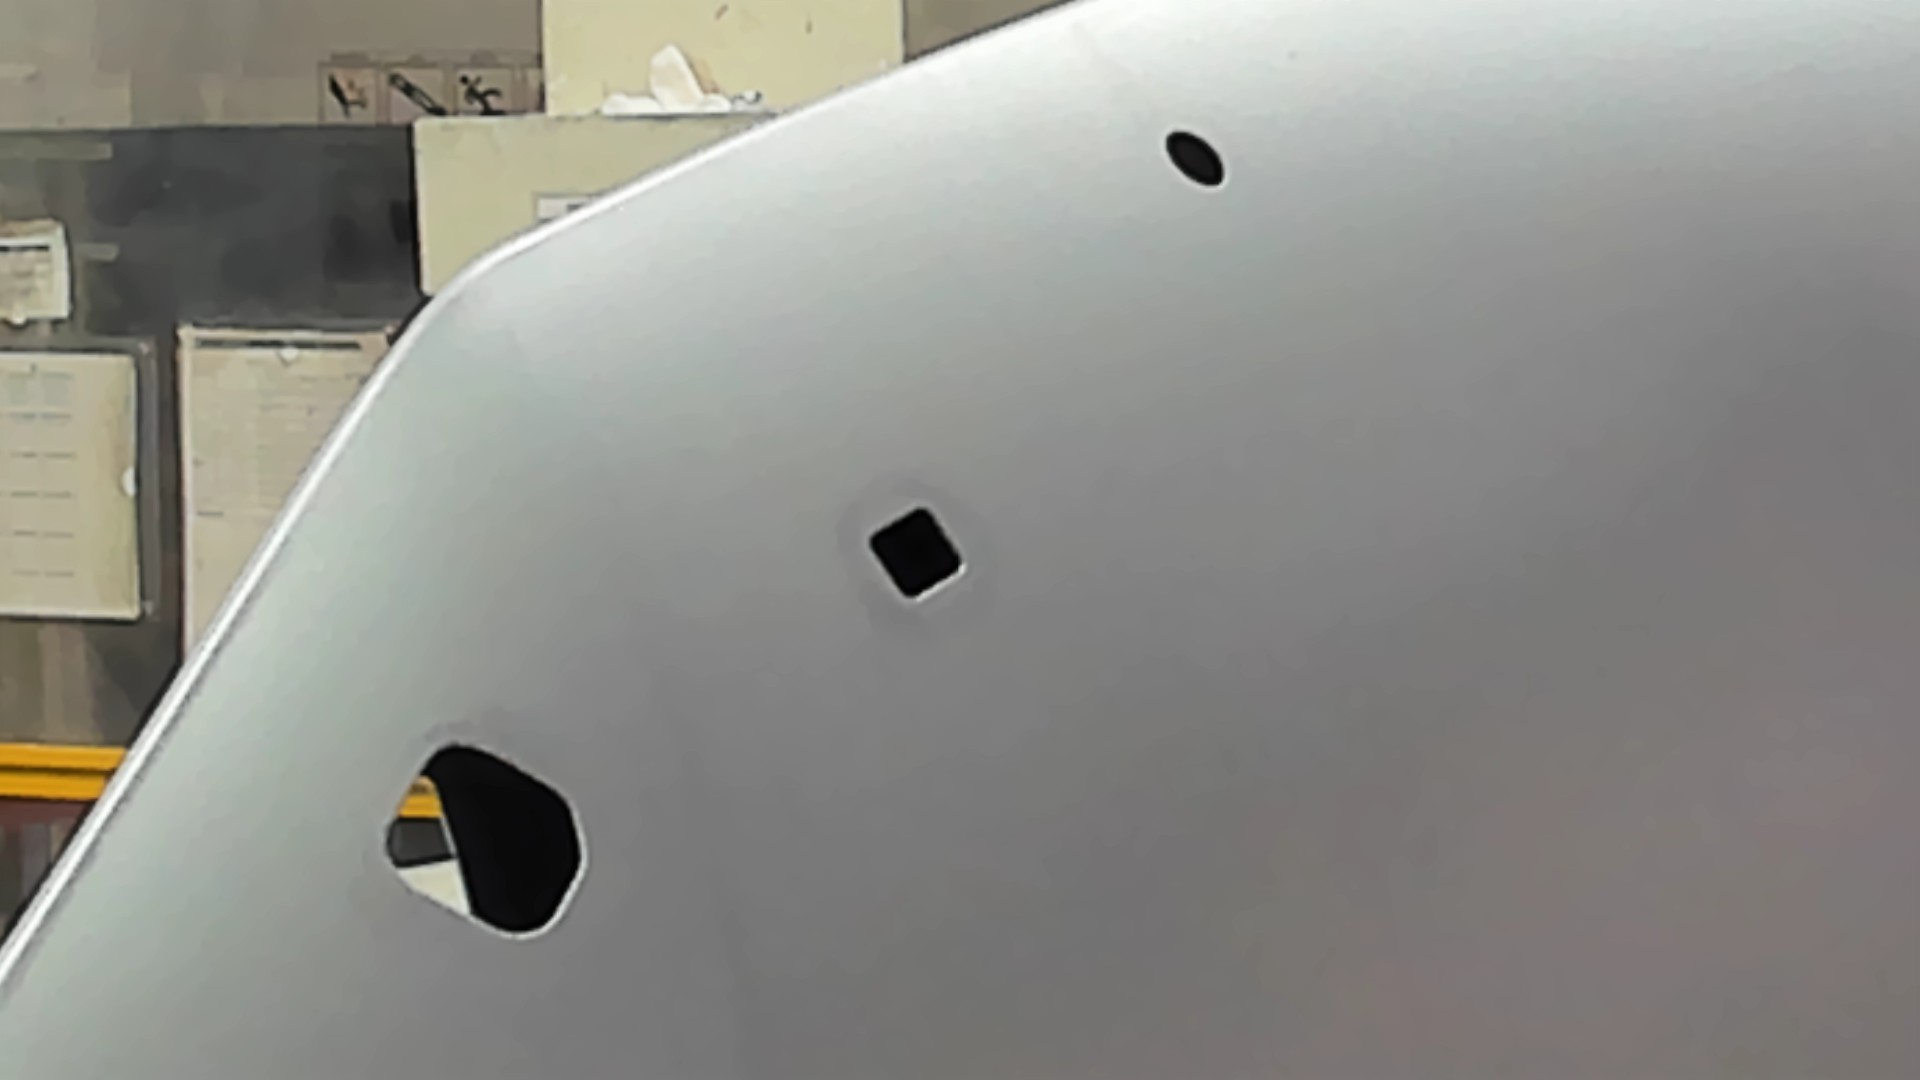chico: (1160, 127, 1228, 193)
grande: (371, 731, 597, 944)
mediano: (855, 497, 975, 615)
